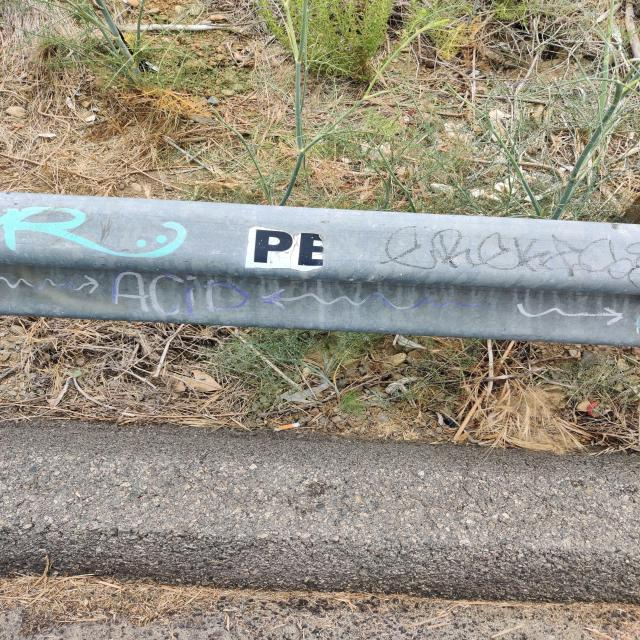litter: (241, 227, 325, 273)
